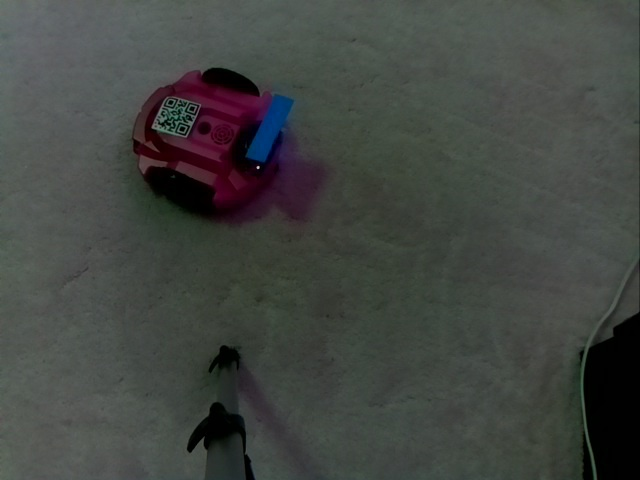board: (232, 85, 300, 175)
chassis: (128, 65, 295, 218)
